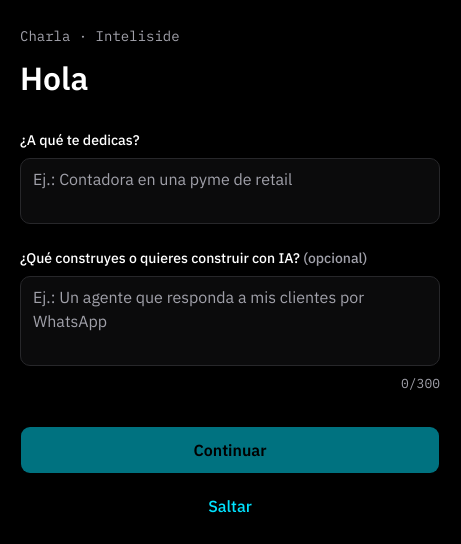
Test case: PantallaPerfil (falta_perfil) › un error de la API se muestra en línea con su mensaje
This screenshot has width=461, height=544.
Type "Contador" into the text box labelled "¿A qué te dedicas?" at (230, 191), box [20,158,440,224]
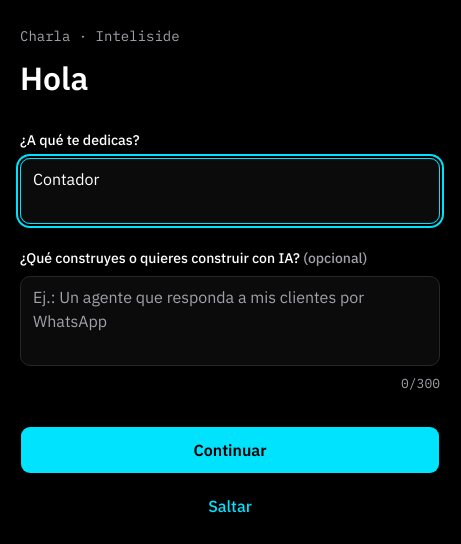
Click the button "Continuar" at (230, 450), box [20,426,440,474]
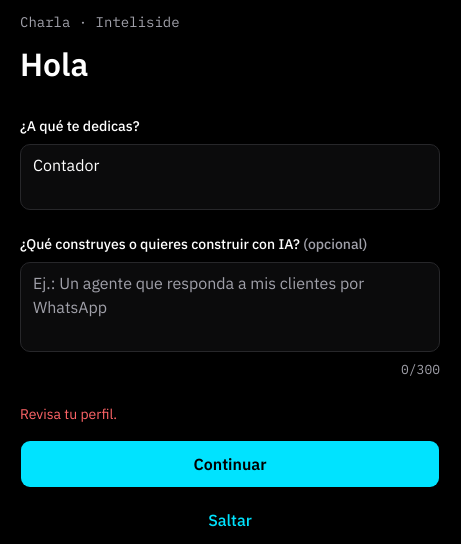
Now the message reads "Revisa tu perfil.", box [20,405,117,423]
